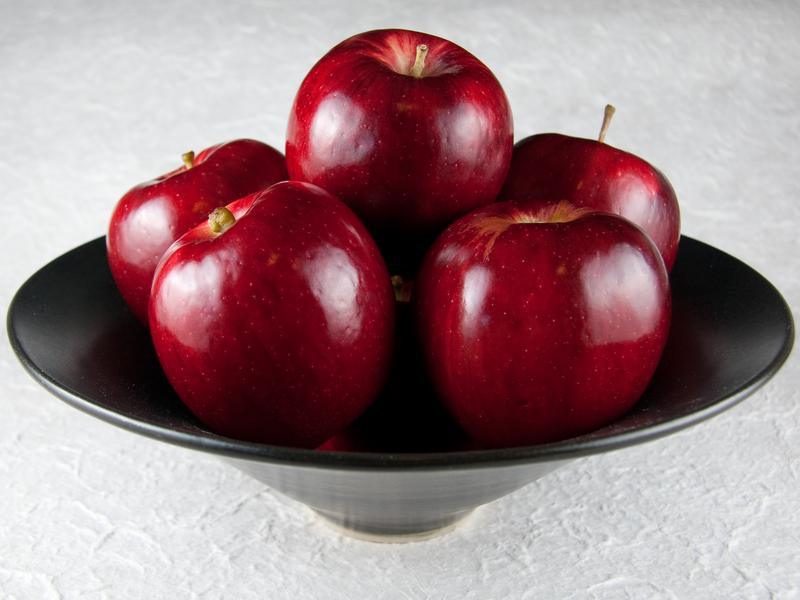apple: (150, 175, 395, 445), (421, 197, 674, 442), (280, 22, 527, 219), (108, 143, 307, 314)
